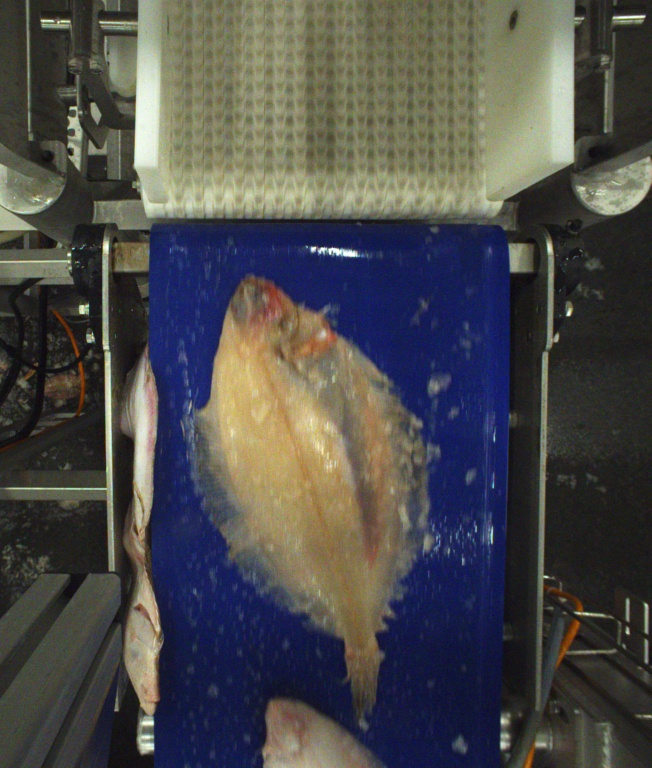WIT: (265, 697, 381, 768)
